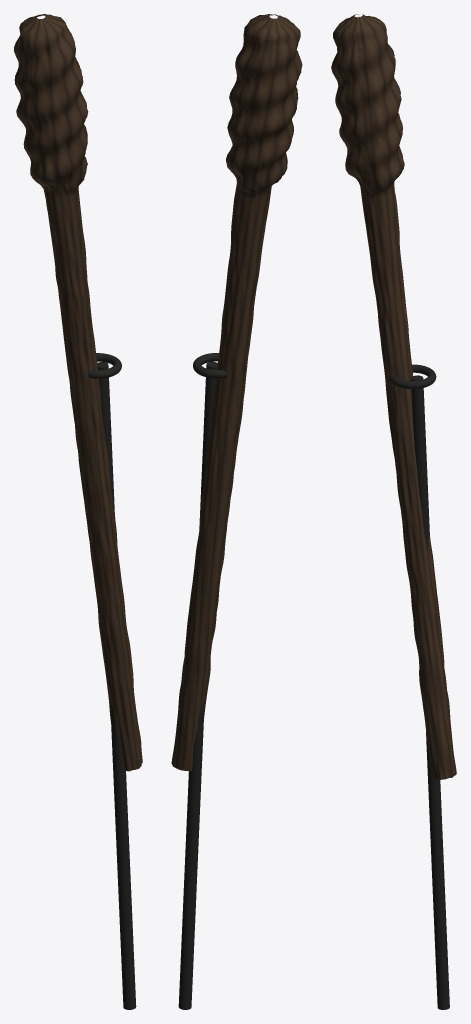
Rendered from torch_L3.glb.
The picture shows the model from 3 angles, left to right: view 1: azimuth 30°, elevation 25°; view 2: azimuth 150°, elevation 25°; view 3: azimuth 330°, elevation 25°; orthographic projection. The views are drawn at different scales.
Visible parts, largest first — view 1: torch, spike, ring; view 2: torch, spike, ring; view 3: torch, spike, ring.
Boxes of the visible parts, x1=… form: torch: x1=14, y1=14, x2=142, y2=771; spike: x1=97, y1=362, x2=136, y2=1009; ring: x1=88, y1=353, x2=121, y2=378; torch: x1=171, y1=14, x2=302, y2=771; spike: x1=178, y1=361, x2=217, y2=1009; ring: x1=193, y1=353, x2=227, y2=378; torch: x1=331, y1=14, x2=456, y2=779; spike: x1=411, y1=375, x2=449, y2=1009; ring: x1=389, y1=364, x2=436, y2=389.
Bounding box in the file's own units: 0.1329 × 1.04 × 0.0646.
2 materials, 1 textured.
